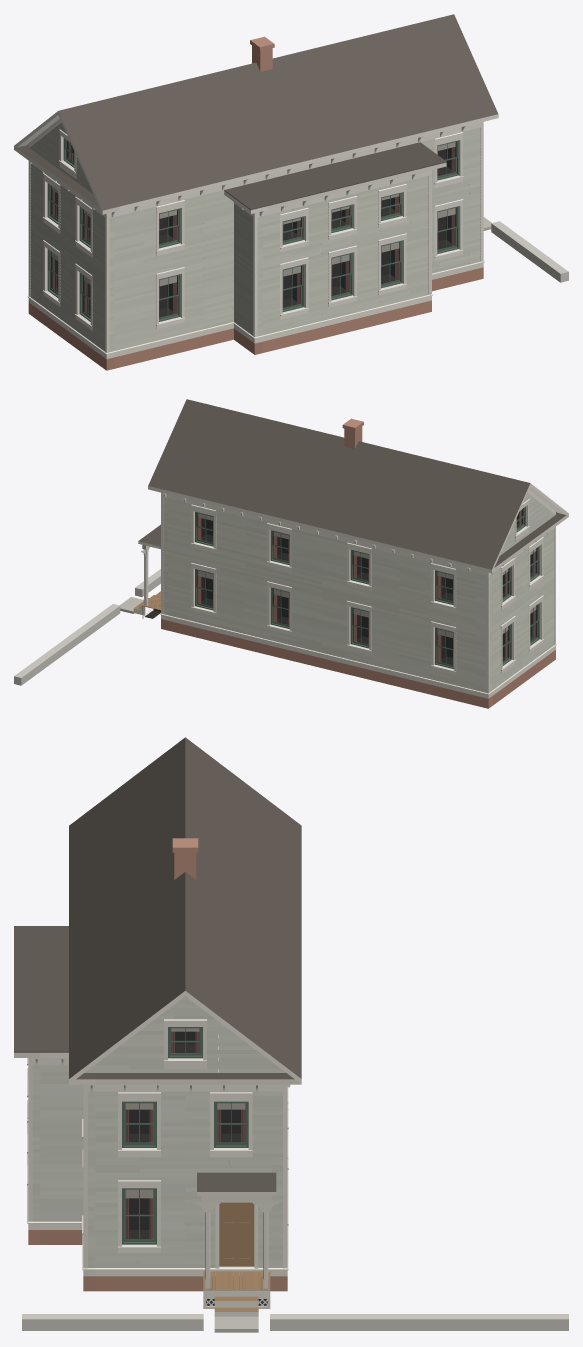
Rendered from house_1601_prairie__as_mapped_1904.glb.
The picture shows the model from 3 angles, top to bottom: view 1: azimuth 30°, elevation 25°; view 2: azimuth 150°, elevation 25°; view 3: azimuth 270°, elevation 25°; orthographic projection. The views are drawn at different scales.
Visible parts, largest first — view 1: house_1601_prairie__as_mapped_1904; view 2: house_1601_prairie__as_mapped_1904; view 3: house_1601_prairie__as_mapped_1904.
Part boxes in pixels (<box>): house_1601_prairie__as_mapped_1904: <box>14,14,568,370</box>; house_1601_prairie__as_mapped_1904: <box>14,399,568,708</box>; house_1601_prairie__as_mapped_1904: <box>14,737,568,1332</box>.
Bounding box in the file's own units: 18.51 × 10.02 × 15.12.
